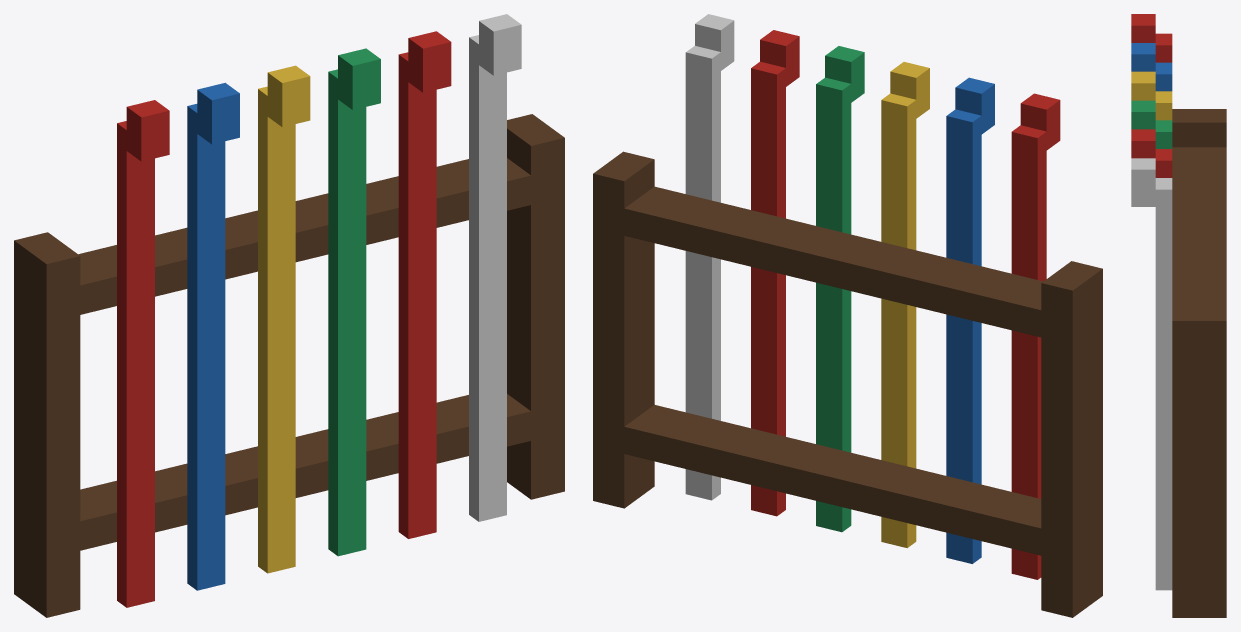
Rendered from ntu-ski-rack.glb.
The picture shows the model from 3 angles, left to right: view 1: azimuth 30°, elevation 25°; view 2: azimuth 150°, elevation 25°; view 3: azimuth 270°, elevation 25°; orthographic projection. The views are drawn at different scales.
Parts seen in each view (by area): view 1: box-prop; view 2: box-prop; view 3: box-prop.
Boxes of the visible parts, bbox=[...] form: box-prop: bbox=[14, 14, 564, 617]; box-prop: bbox=[593, 14, 1102, 617]; box-prop: bbox=[1131, 14, 1226, 617].
Size of the model in its own units: 1.84 by 1.7 by 0.35.
